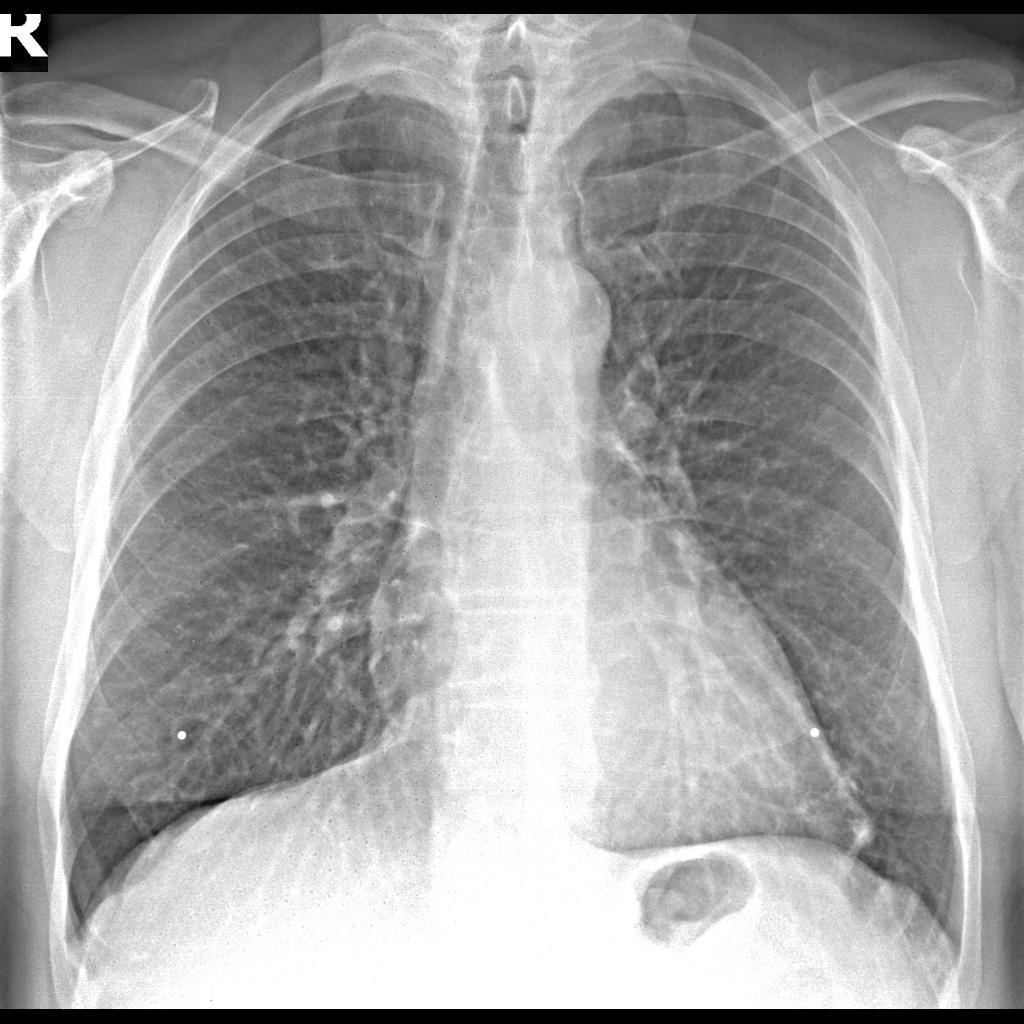Nodule: (846, 805, 894, 872)
